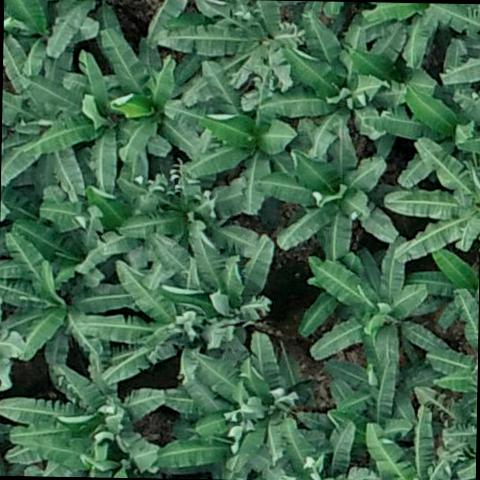Banana-plant: (264, 15, 412, 160), (0, 356, 170, 472), (63, 30, 206, 164), (260, 128, 398, 260), (35, 51, 165, 185), (120, 162, 268, 273), (188, 61, 299, 208), (301, 253, 428, 379), (194, 333, 322, 458), (158, 0, 316, 90), (0, 235, 104, 368), (0, 38, 86, 197), (79, 260, 190, 381), (150, 232, 276, 337), (385, 135, 480, 264), (319, 332, 436, 427)
